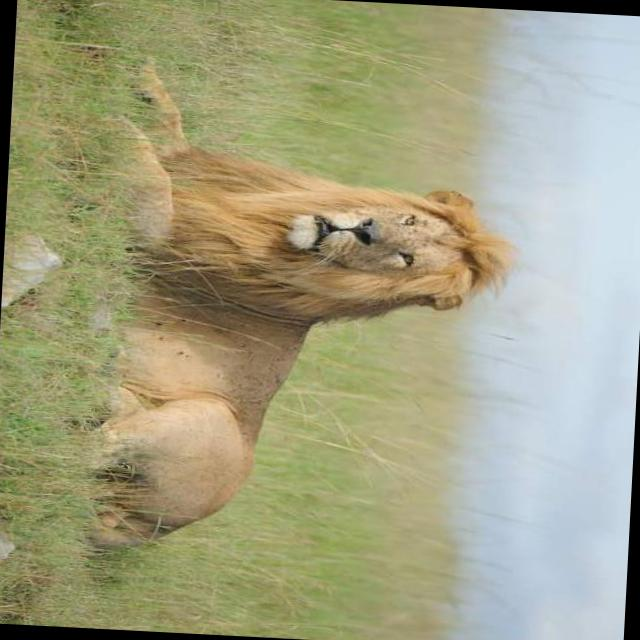lions: (97, 20, 563, 640)
